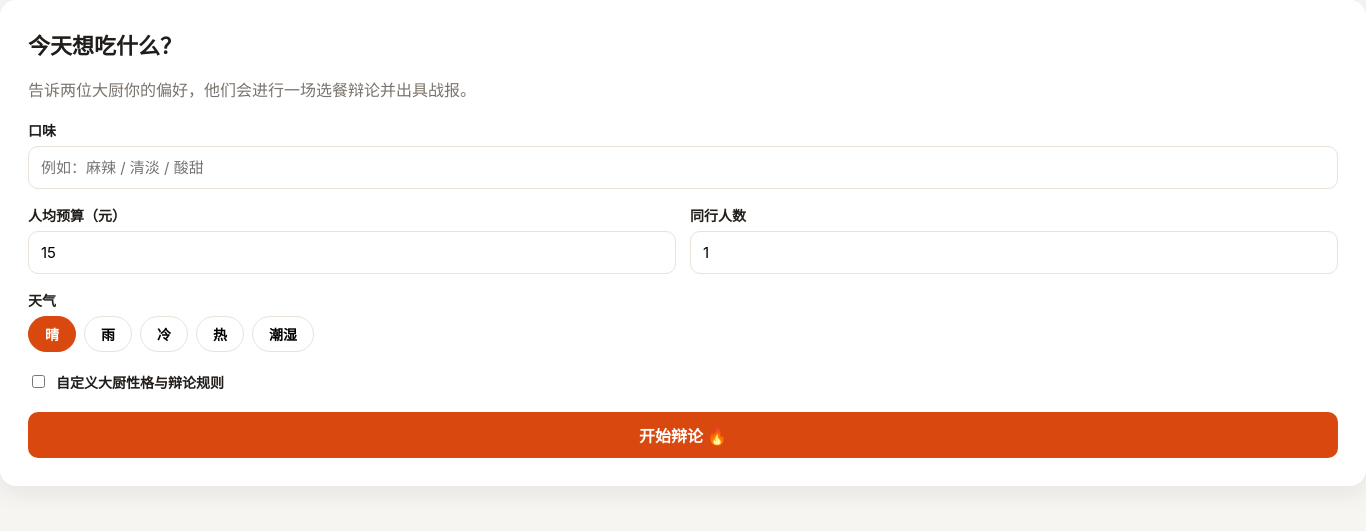
Test: PreferenceForm › validates budget out of range
The image size is (1366, 531).
In the field with placeholder "例如：麻辣 / 清淡 / 酸甜": (683, 167) [28,146,1338,189], type "麻辣"
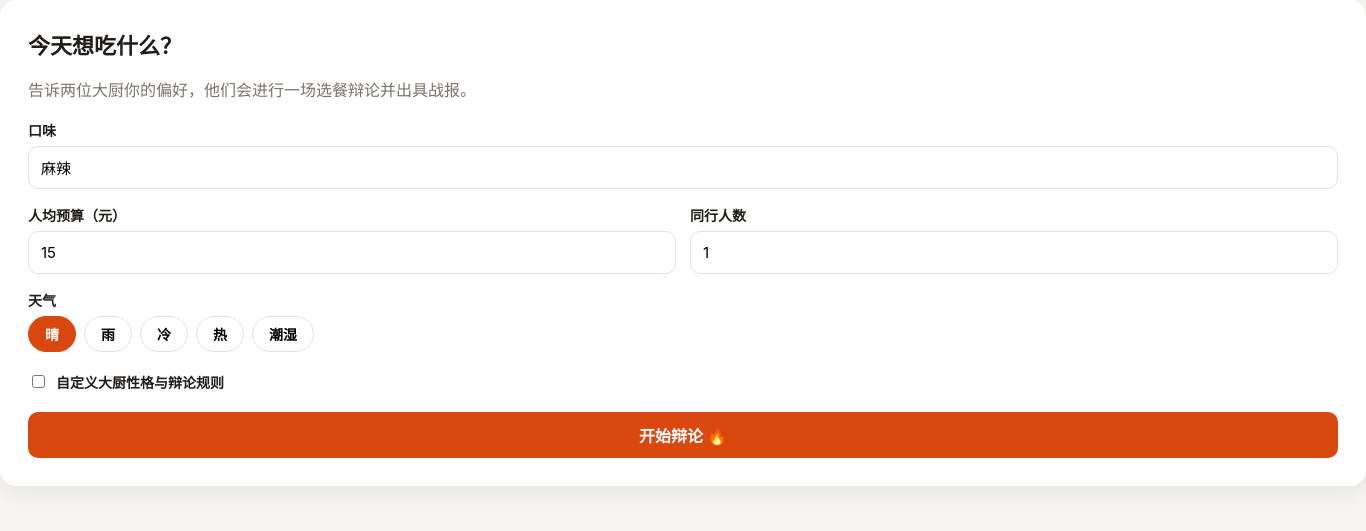
Replace the text in the number field labelled "人均预算（元）" with "999": (352, 252) [28,231,676,274]
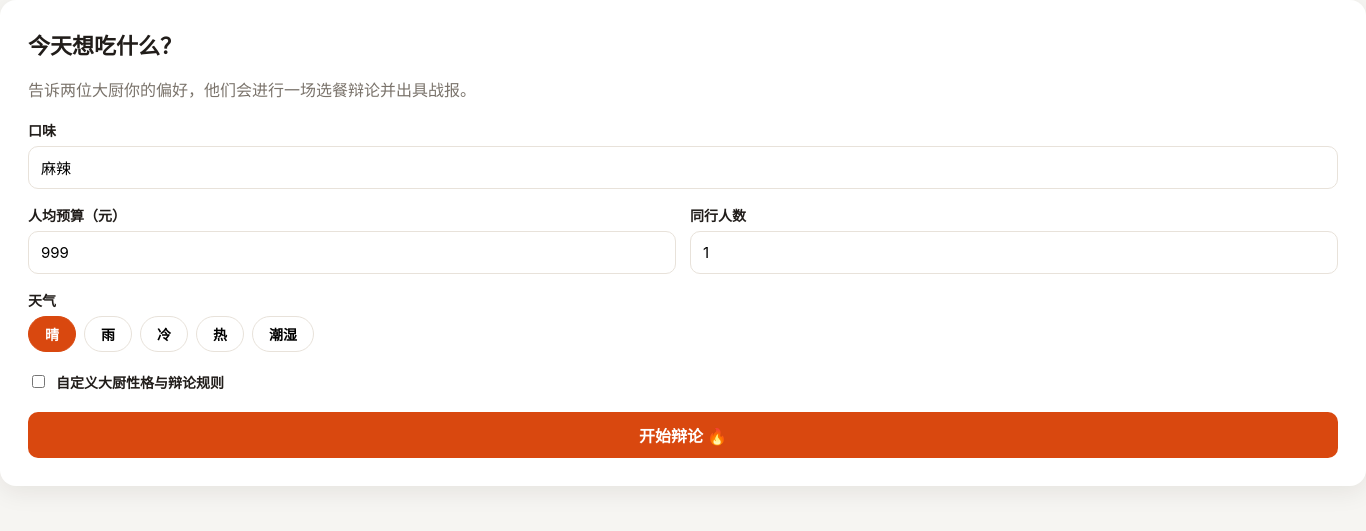
Click the button "开始辩论 🔥": (683, 435) [28,412,1338,458]
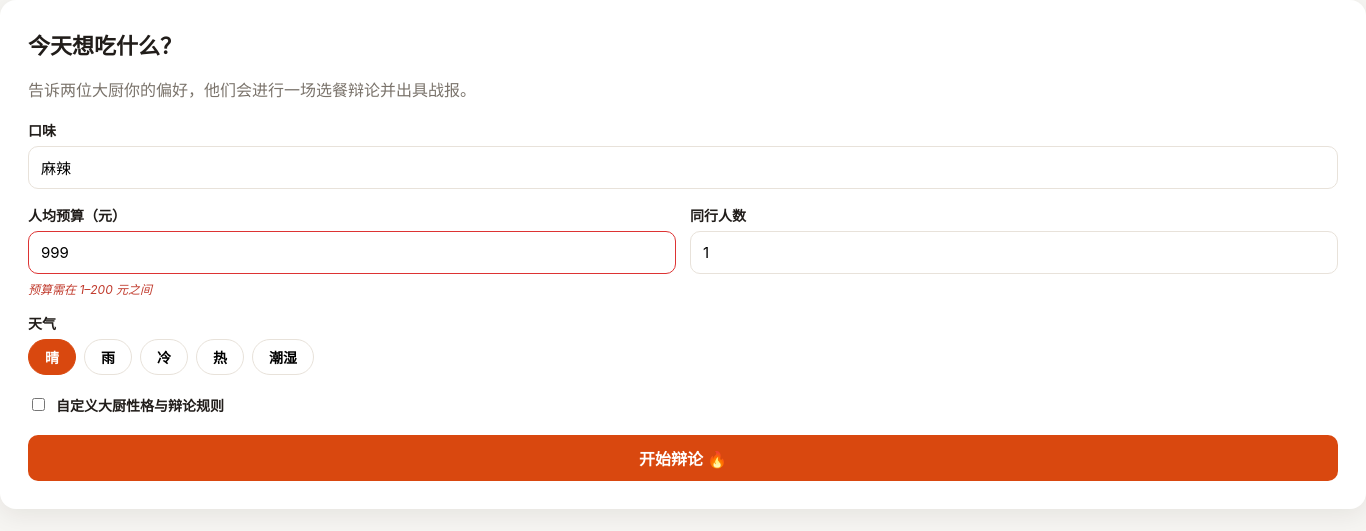
Now the text "预算需在 1–200 元之间" is shown, box [28,282,152,297]
